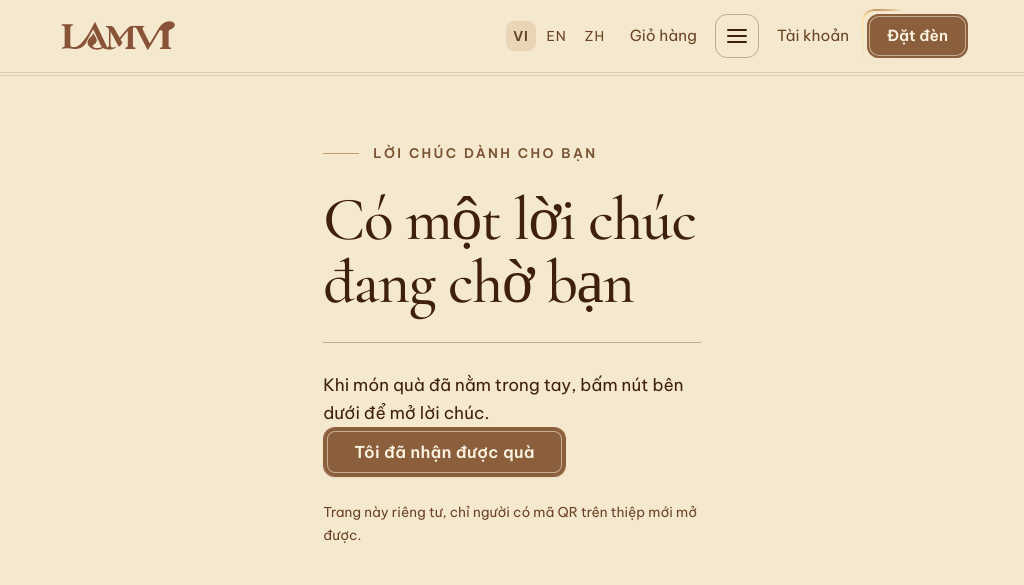
it: GA (§23.3) › open_qr_gift khi mở trang, confirm_gift_received khi xác nhận — không có token trong tham số
Click the button "Tôi đã nhận được quà" at point(445, 452), box [323,427,566,477]
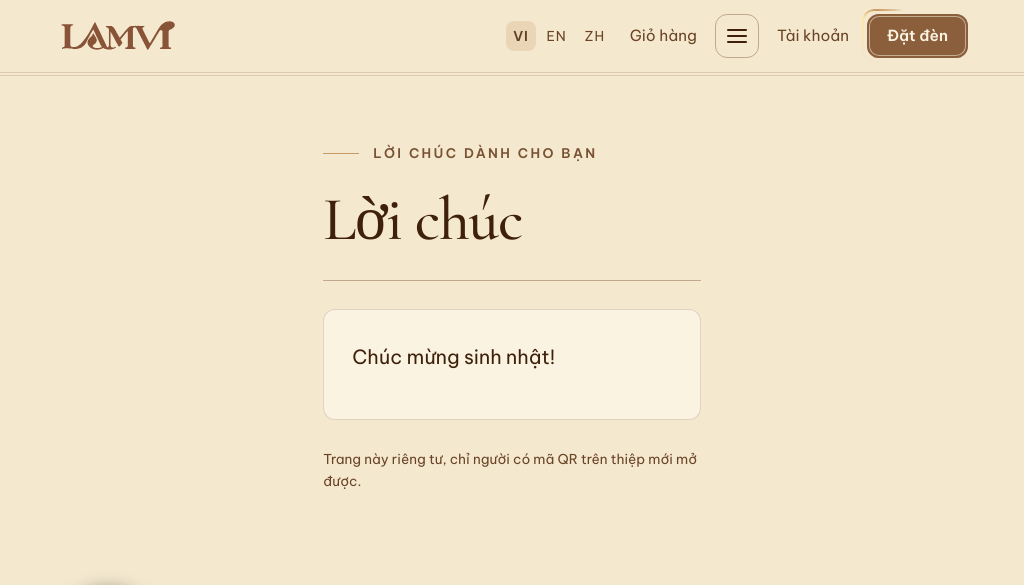
Check: the text "Chúc mừng sinh nhật!" is shown, box [352,344,555,368]
